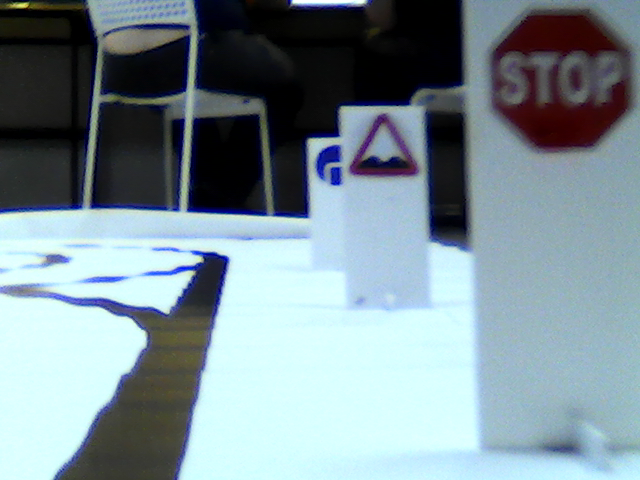Nerov: (349, 116, 419, 176)
Stop: (496, 6, 619, 154)
